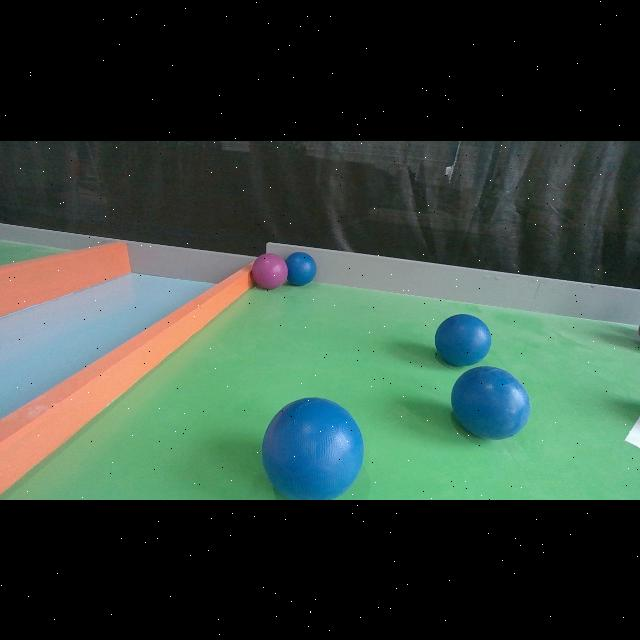B: (262, 396, 364, 499), (451, 366, 531, 440), (434, 313, 492, 365), (286, 251, 316, 285)
P: (252, 253, 288, 289)
